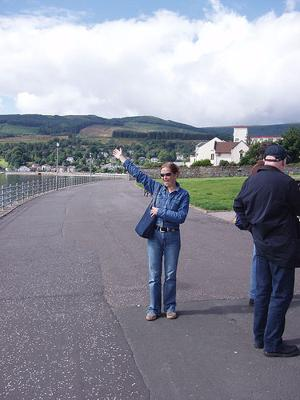person: (112, 148, 191, 322)
